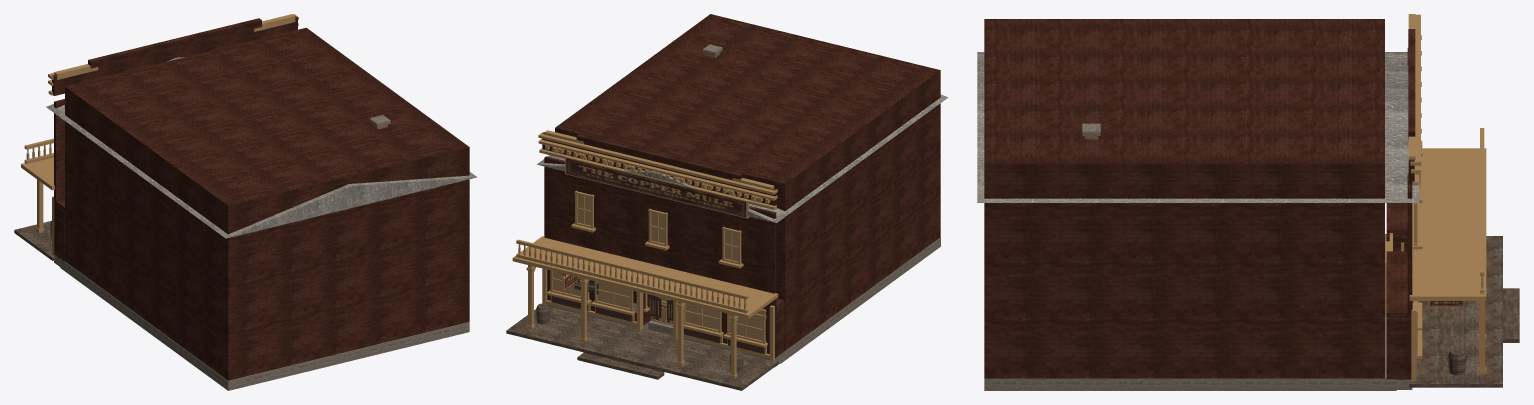
Rendered from copper_mule.glb.
The picture shows the model from 3 angles, left to right: view 1: azimuth 30°, elevation 25°; view 2: azimuth 150°, elevation 25°; view 3: azimuth 270°, elevation 25°; orthographic projection. The views are drawn at different scales.
Visible parts, largest first — view 1: Photographic pine | grade and eave AO, Split slate, Rubble foundation, Trim copper_mule, Photographic pine; view 2: Photographic pine | grade and eave AO, Trim copper_mule, Photographic pine, Amber glass, Print_copper_mule, Rubble foundation, Split slate, Door copper_mule, Oak staves; view 3: Photographic pine | grade and eave AO, Trim copper_mule, Photographic pine, Split slate, Rubble foundation.
Boxes of the visible parts, box(x1,y1,x2,y2) form: Photographic pine | grade and eave AO: box(52, 16, 469, 380); Split slate: box(46, 57, 476, 238); Rubble foundation: box(54, 115, 469, 390); Trim copper_mule: box(21, 14, 298, 255); Photographic pine: box(14, 221, 55, 260); Photographic pine | grade and eave AO: box(542, 14, 940, 357); Trim copper_mule: box(512, 130, 778, 379); Photographic pine: box(506, 306, 778, 390); Amber glass: box(553, 194, 762, 340); Print_copper_mule: box(566, 158, 745, 217); Rubble foundation: box(548, 44, 940, 367); Split slate: box(537, 94, 948, 222); Door copper_mule: box(551, 294, 764, 353); Oak staves: box(536, 303, 743, 371); Photographic pine | grade and eave AO: box(984, 19, 1415, 379); Trim copper_mule: box(1385, 14, 1486, 381); Photographic pine: box(1409, 236, 1519, 387); Split slate: box(977, 52, 1419, 202); Rubble foundation: box(984, 123, 1412, 390).
Size of the model in its own units: 12.52 by 9.22 by 19.01.
17 materials, 10 textured.
